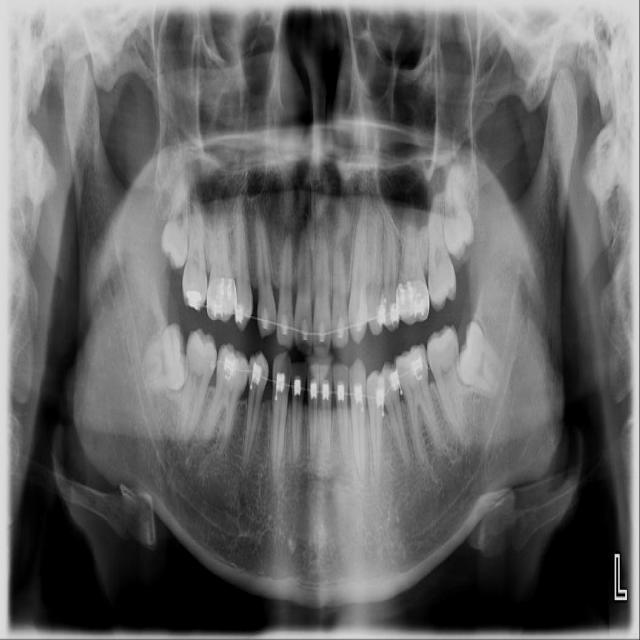impacted tooth: (135, 324, 189, 390), (459, 321, 504, 392), (443, 155, 473, 258), (160, 164, 189, 264)
